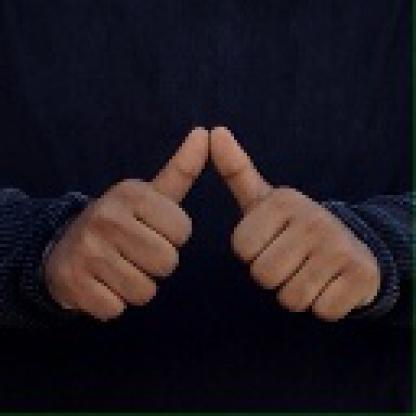A: (56, 121, 384, 328)
